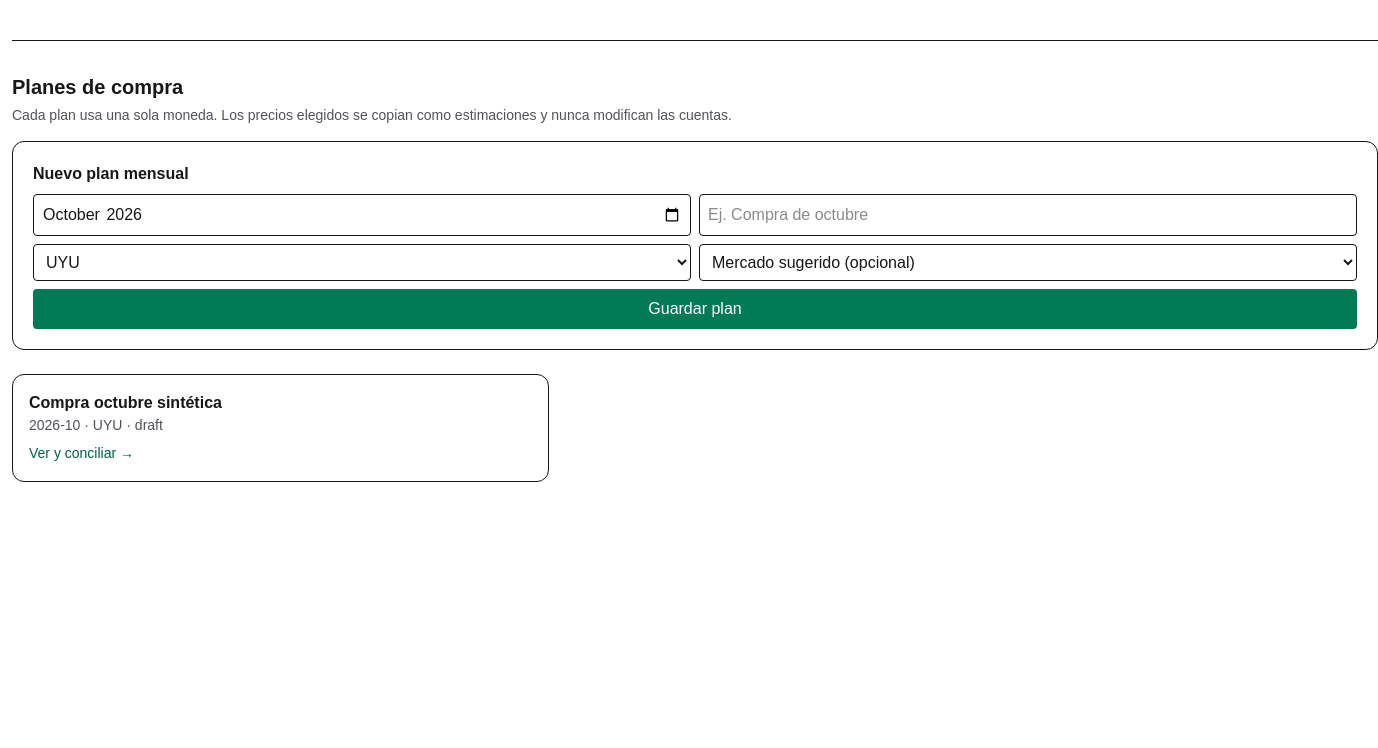
GroceryPlanManager › loads matching paid expenses when a plan is selected
This screenshot has width=1378, height=748.
Expected: the text "Ver y conciliar →" is shown, [29, 443, 134, 463]
Click the button "Compra octubre sintética" at (125, 402), box [13, 375, 548, 481]
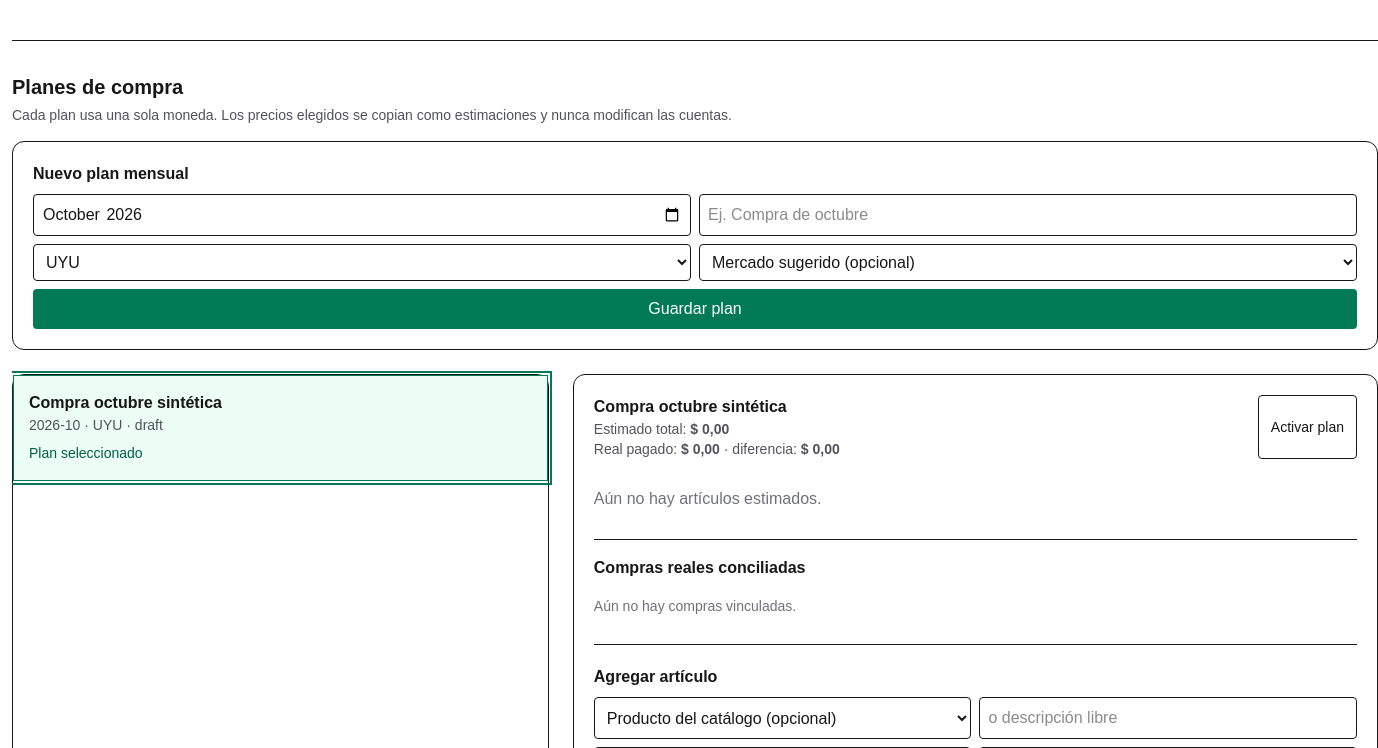
Result: the text "Plan seleccionado" is shown at [29, 443, 143, 463]
